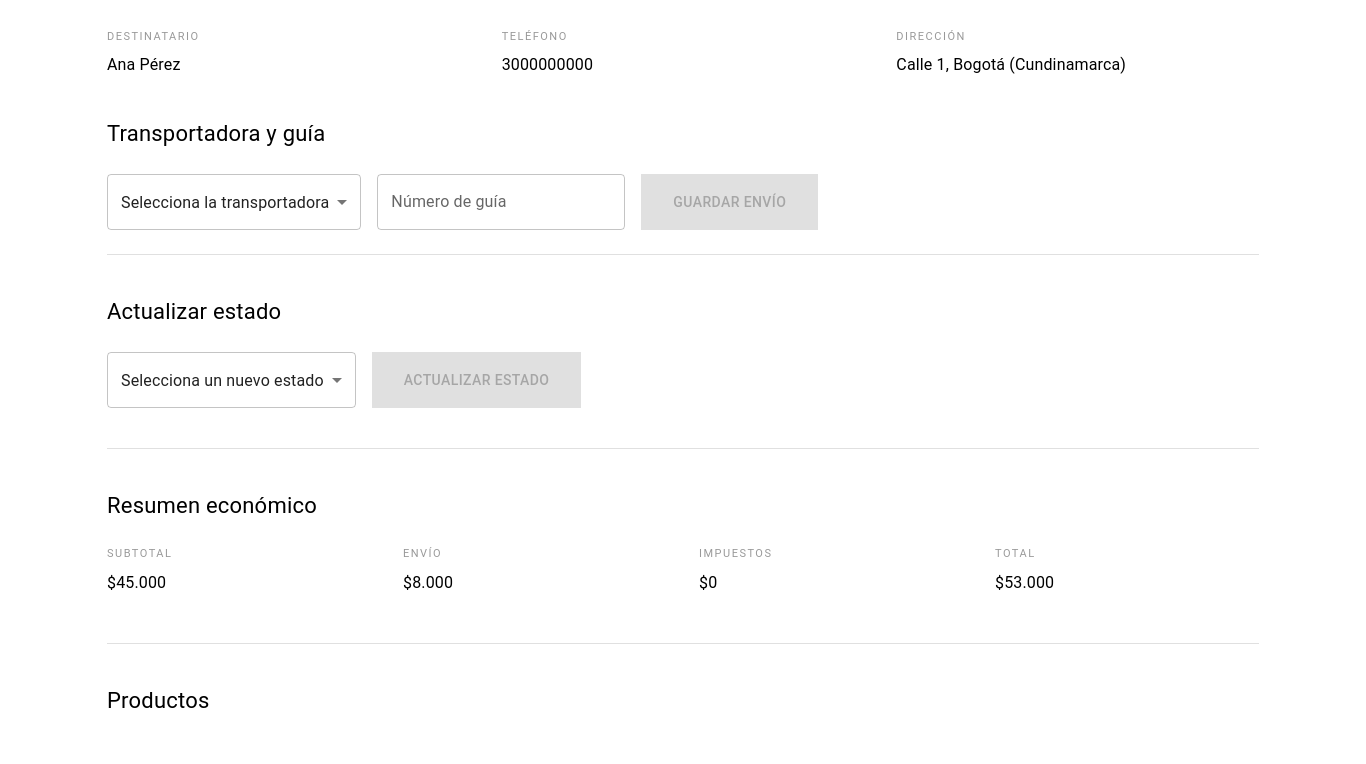
Test: AdminOrderDetail › updates the status and shows a success message
The image size is (1366, 764).
(page scrolled)
Expected: the button "Actualizar estado" is disabled, [372,352,581,408]
Click the dropdown "Selecciona un nuevo estado" at (222, 380), box [121,370,324,390]
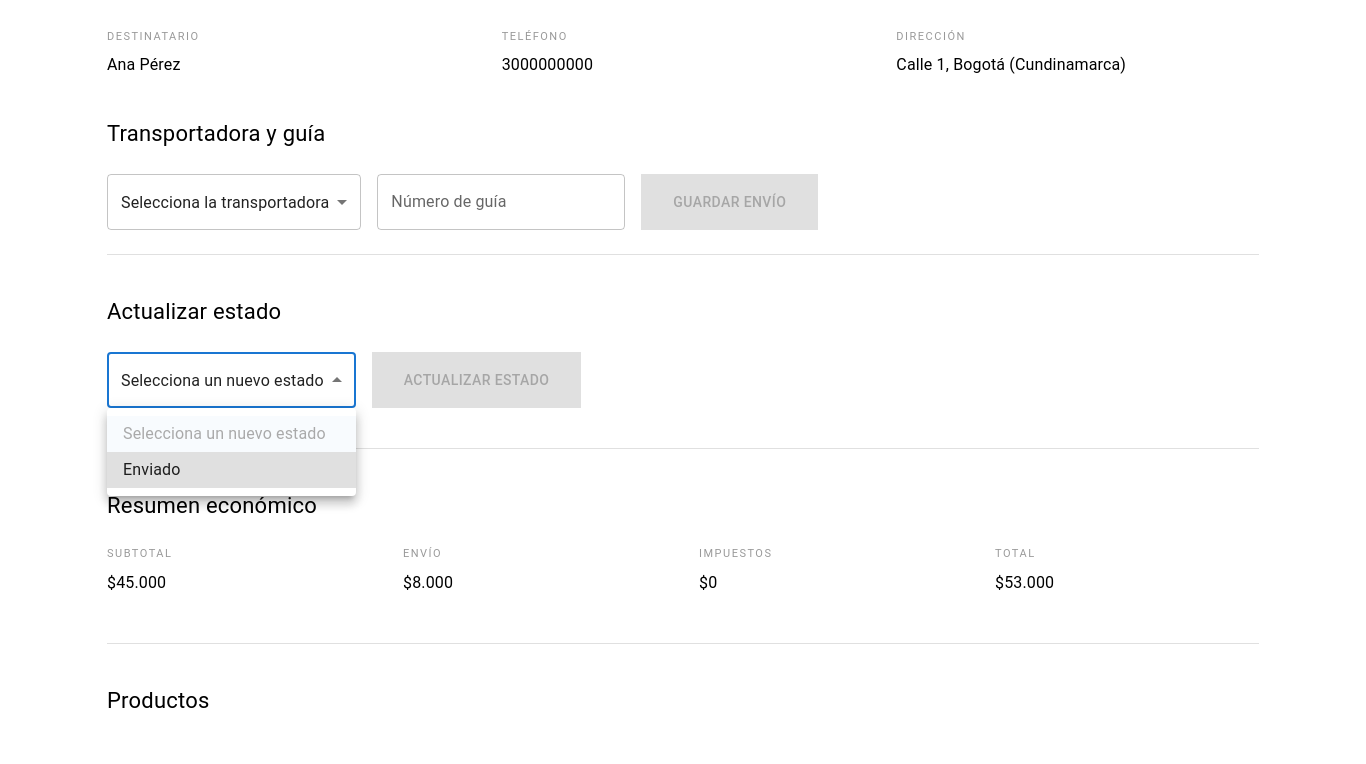
Click the option "Enviado" at (232, 470), box [107,452,356,488]
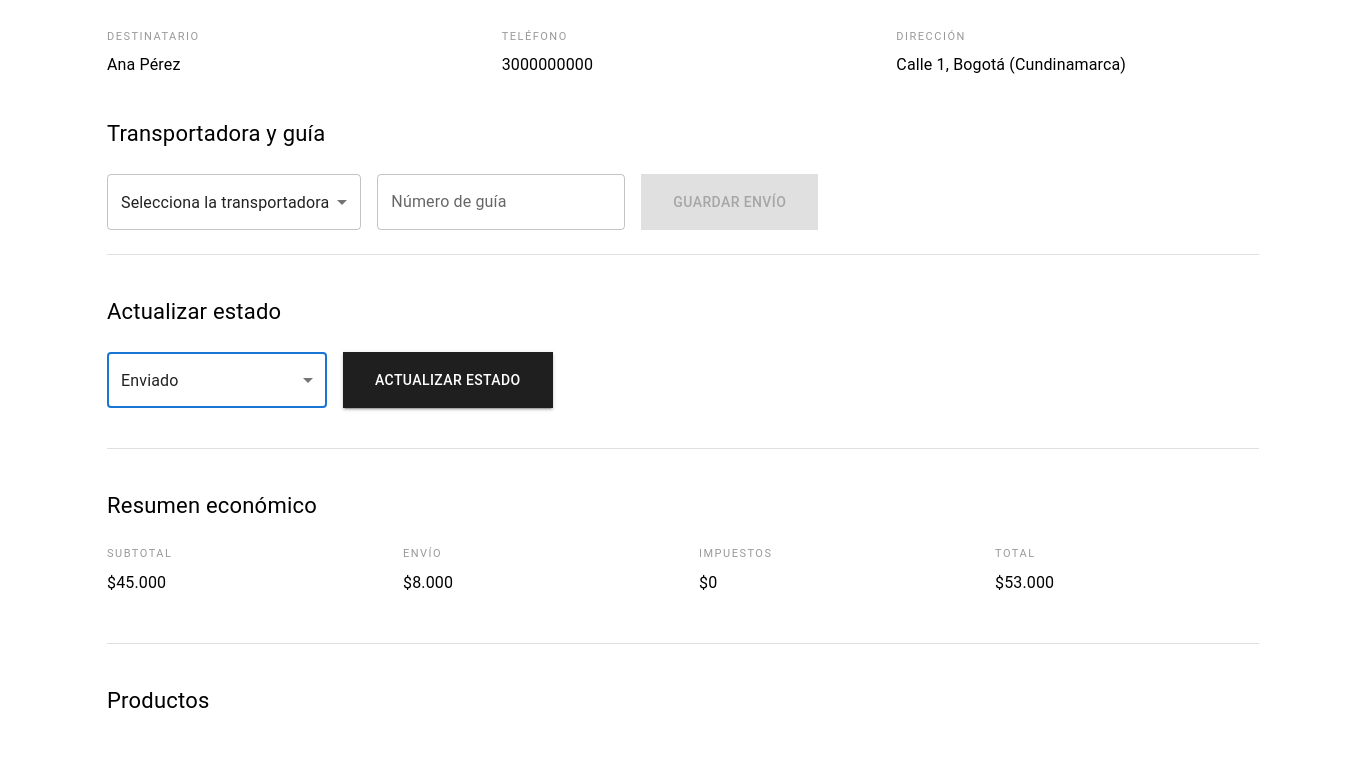
Result: the button "Actualizar estado" is enabled
Click the button "Actualizar estado" at (448, 380), box [343,352,552,408]
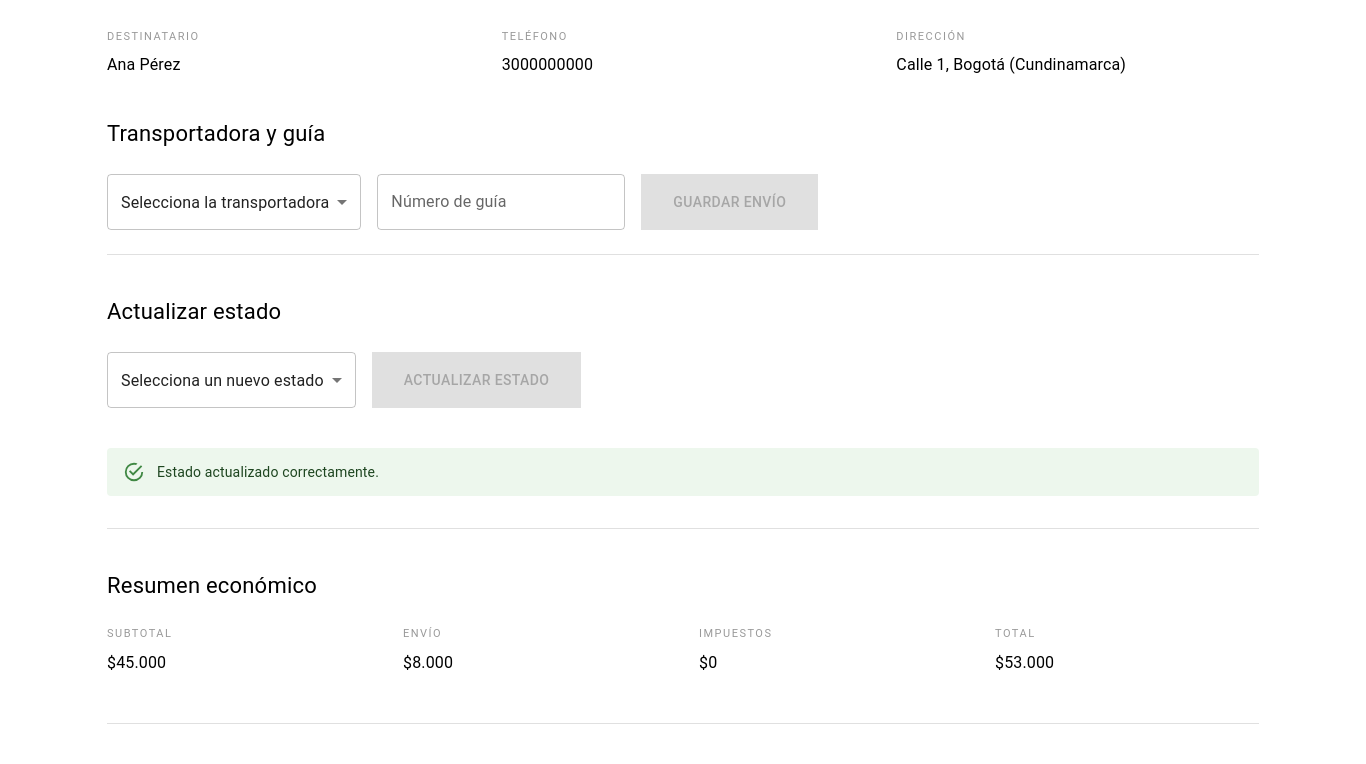
Result: the text "Estado actualizado correctamente." is shown at [157,464,379,480]
